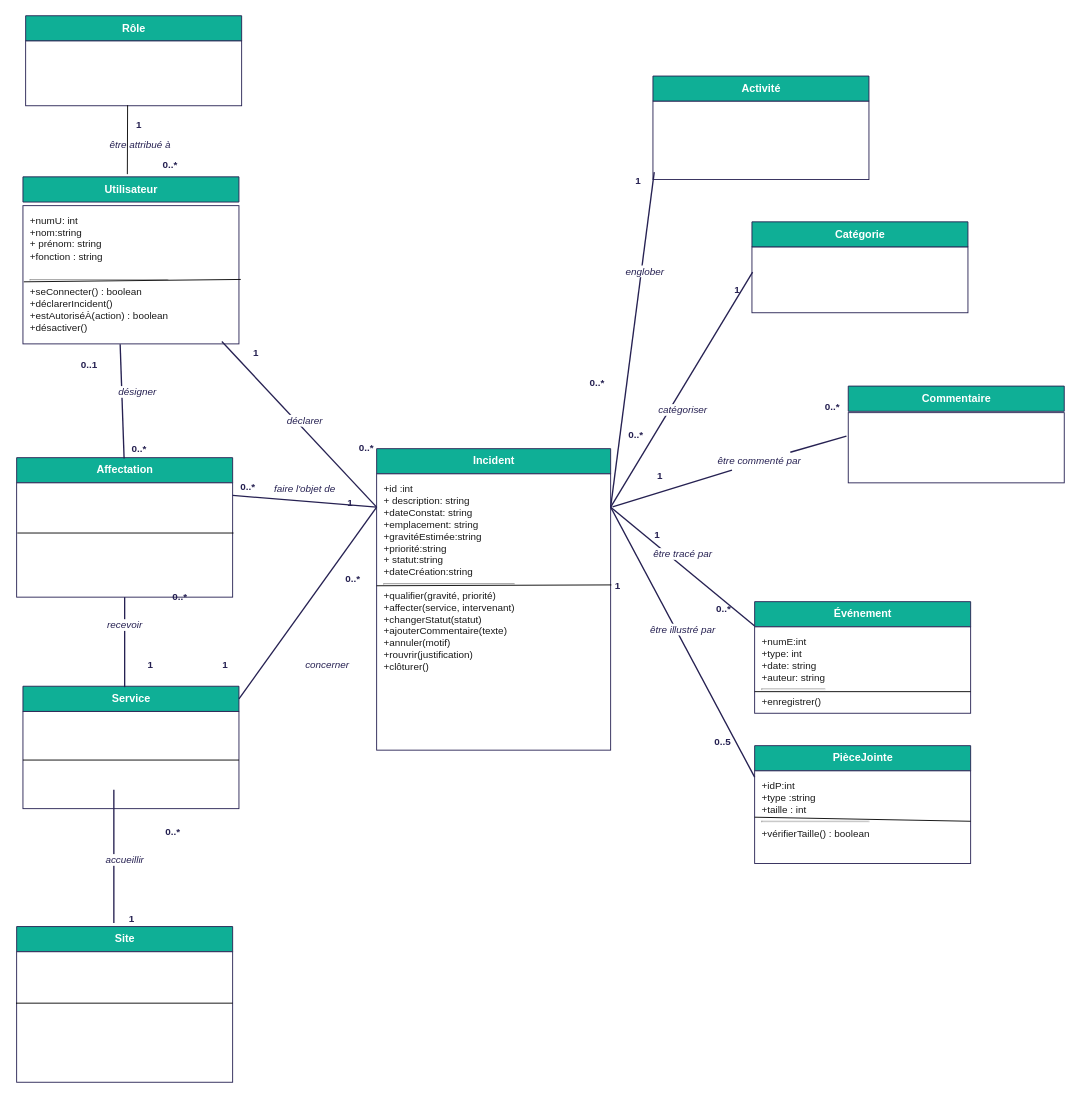
Image size: 1080x1098. Some labels were removed from this diagram. Each missing label, with the box of its shape:
+id: int +date: string +auteur:string: (847, 412, 1064, 483)
+id:int +date: string +service cible:string +créer(service, intervenant): (16, 482, 233, 597)
+idS:int +nom:string +type:string +listerIncidents() : Incident[]: (22, 711, 239, 809)
+mat: int +libellé: string: (751, 246, 968, 313)
+matS:int +nom:string +lieu:string +ajouterService(service): (16, 951, 233, 1082)
+num: int +designation: string +salaire: int: (25, 40, 242, 106)
+ref: int +nom : string +distribution: string: (652, 100, 869, 180)
